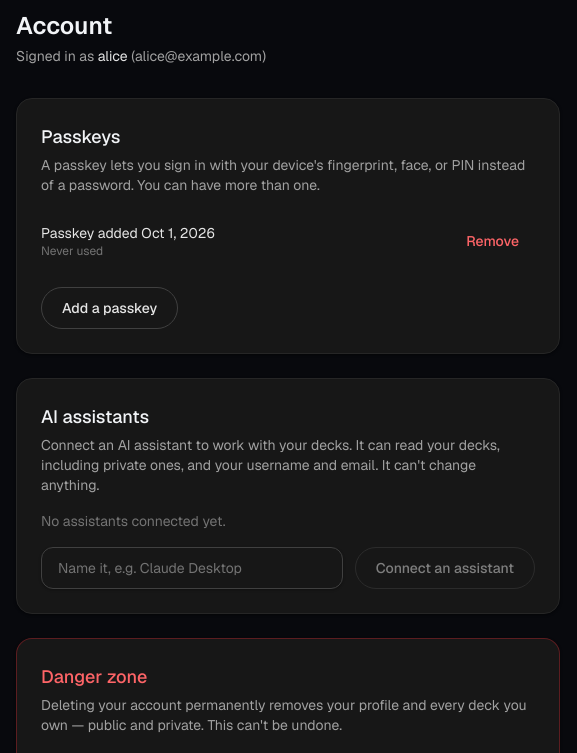
account page: removing a passkey › needs a second click, and Cancel backs out without deleting
Click the button "Remove" at coordinates (493, 241), box [450,223,535,259]
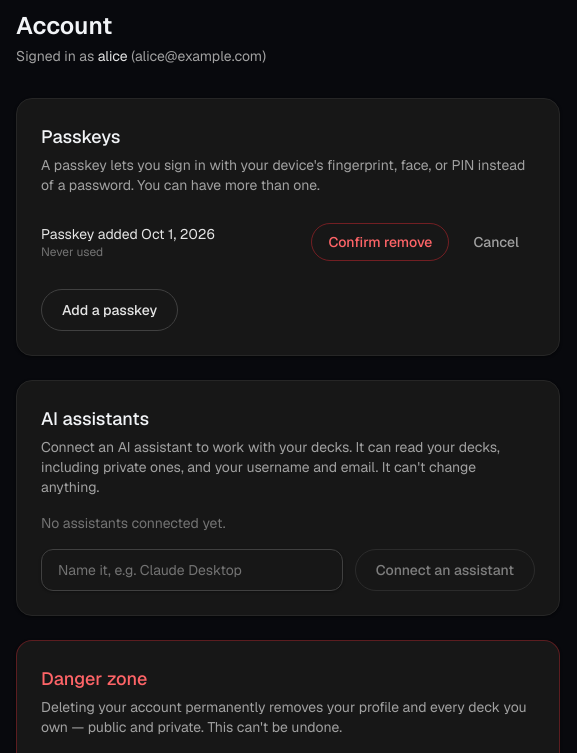
Check: the button "Confirm remove" is shown, box [311,223,449,261]
Click the button "Cancel" at coordinates (496, 242), box [457,224,535,260]
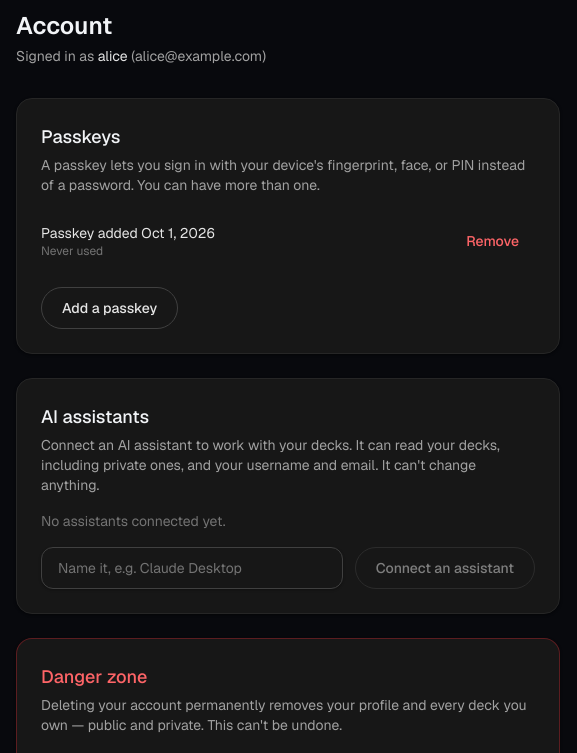
Check: the button "Remove" is shown, box [450,223,535,259]
Check: the button "Confirm remove" is gone
